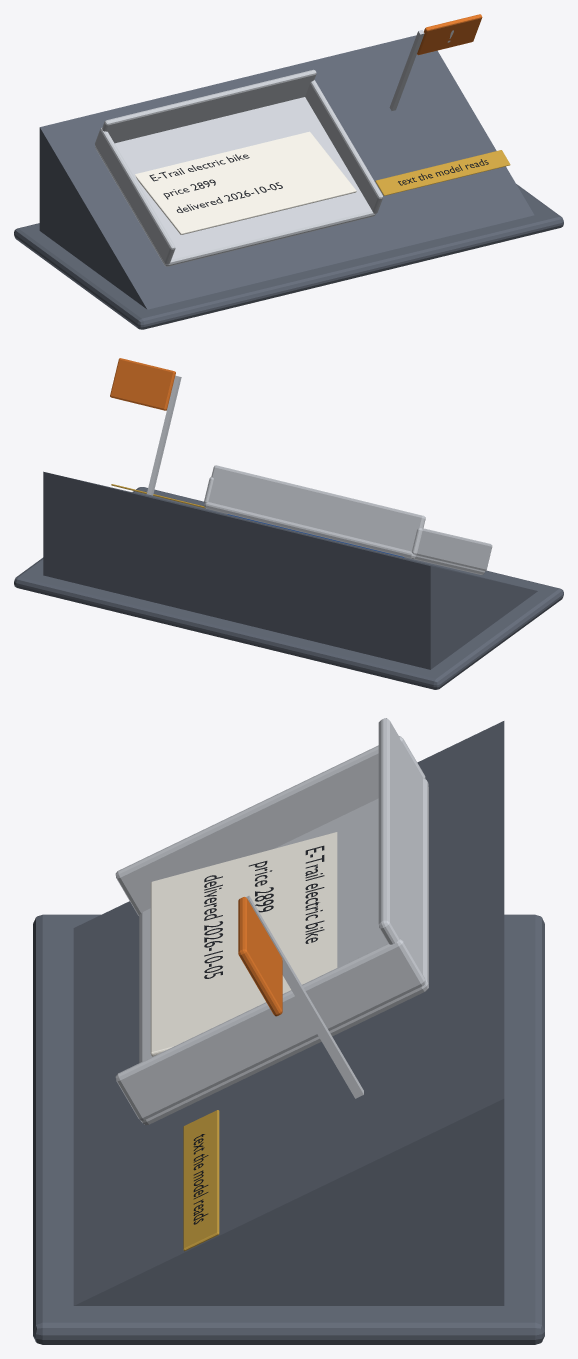
File: observe.glb
The picture shows the model from 3 angles, top to bottom: view 1: azimuth 30°, elevation 25°; view 2: azimuth 150°, elevation 25°; view 3: azimuth 270°, elevation 25°; orthographic projection. The views are drawn at different scales.
Parts seen in each view (by area): view 1: slope, floor, p, stand, lbl_p, cloth, l0, pole; view 2: slope, stand, floor, cloth, pole; view 3: slope, stand, floor, p, lbl_p, cloth, pole, l0.
Part boxes in pixels (<box>): slope: <box>39,35,534,309</box>; floor: <box>95,69,383,266</box>; p: <box>135,131,356,234</box>; stand: <box>14,184,563,329</box>; lbl_p: <box>375,150,510,195</box>; cloth: <box>417,14,482,55</box>; l0: <box>149,154,282,212</box>; pole: <box>389,30,424,110</box>; slope: <box>43,471,537,669</box>; stand: <box>14,487,563,689</box>; floor: <box>204,465,492,574</box>; cloth: <box>110,358,175,410</box>; pole: <box>147,375,181,495</box>; slope: <box>73,721,504,1305</box>; stand: <box>33,914,544,1344</box>; floor: <box>115,718,428,1125</box>; p: <box>150,832,337,1056</box>; lbl_p: <box>183,1110,219,1251</box>; cloth: <box>238,897,282,1016</box>; pole: <box>246,895,363,1098</box>; l0: <box>204,845,324,978</box>.
Bounding box in the file's own units: 1.21 × 0.4984 × 0.6298.
